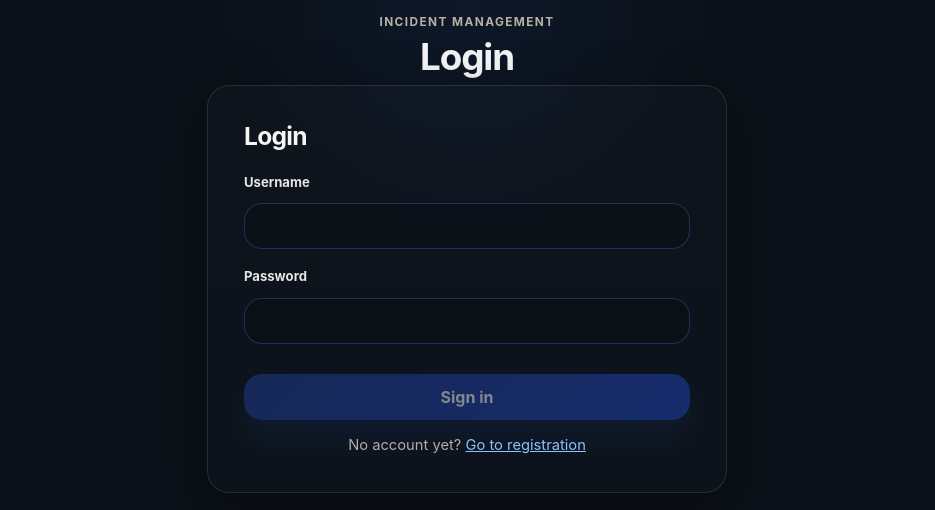
Test case: authentication flow › redirects guests from incidents to login and signs in
Type "reporter" into the field with id "username" at (467, 227), box [244,204,690,250]
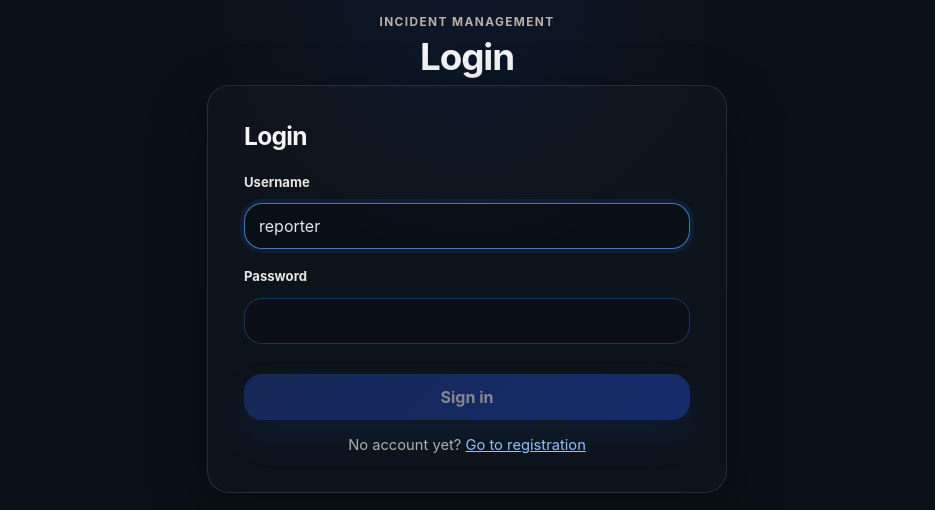
Type "password123" into the password field labelled "Password" at (467, 321), box [244,298,690,344]
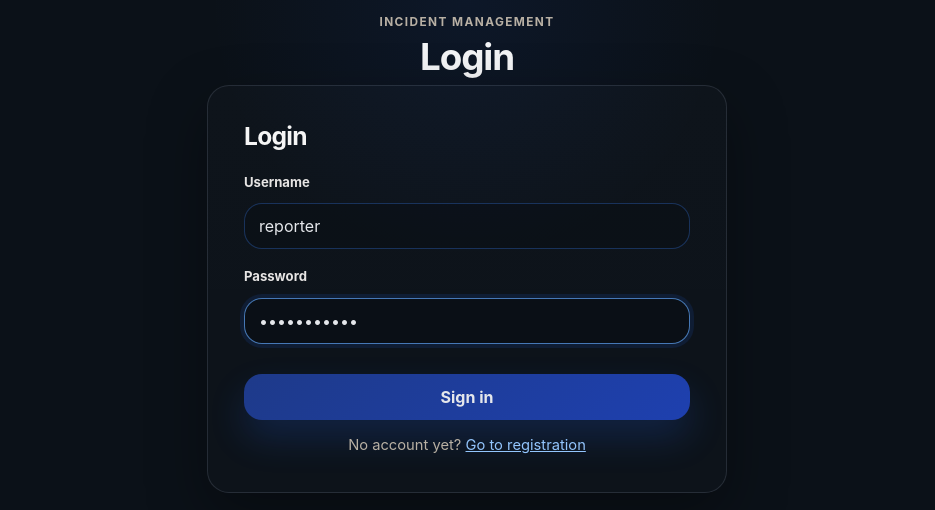
Click the button "Sign in" at (467, 397), box [244,374,690,420]
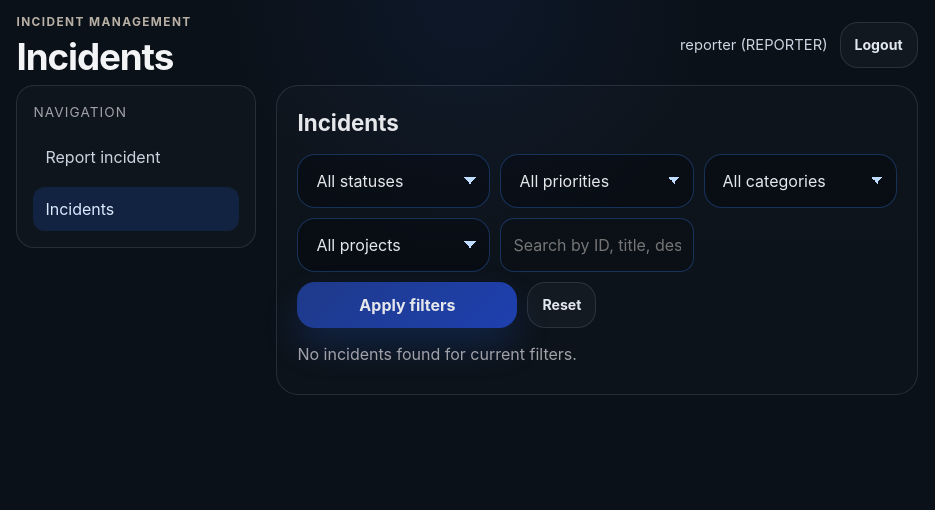
Check: the text "reporter (REPORTER)" is shown, box [680,34,828,56]
